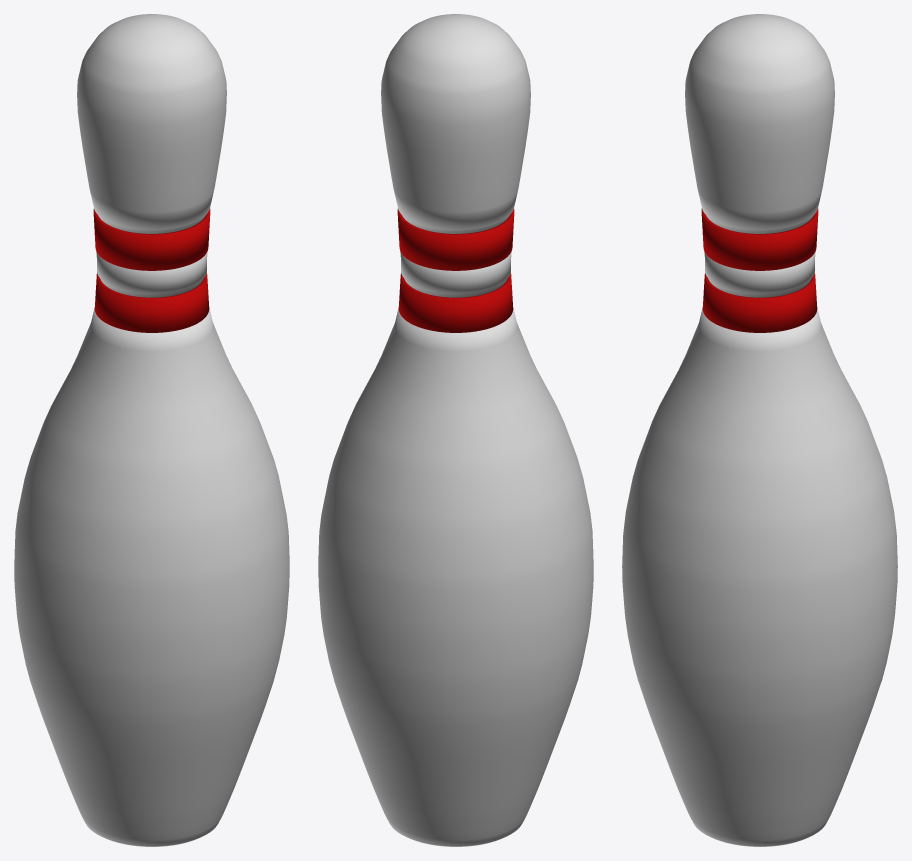
File: BowlingPin.fbx
3 views of the same model, side by side, from view 1: azimuth 30°, elevation 25°; view 2: azimuth 150°, elevation 25°; view 3: azimuth 270°, elevation 25° (orthographic).
Parts seen in each view (by area): view 1: pin_New Material 3, rings_New Material 4; view 2: pin_New Material 3, rings_New Material 4; view 3: pin_New Material 3, rings_New Material 4.
Part boxes in pixels (x1=…): pin_New Material 3: x1=14, y1=14, x2=289, y2=846; rings_New Material 4: x1=93, y1=209, x2=210, y2=332; pin_New Material 3: x1=318, y1=14, x2=593, y2=846; rings_New Material 4: x1=397, y1=209, x2=514, y2=332; pin_New Material 3: x1=622, y1=14, x2=897, y2=846; rings_New Material 4: x1=701, y1=208, x2=818, y2=332.
Bounding box in the file's own units: 0.6507 × 2.08 × 0.6507.
